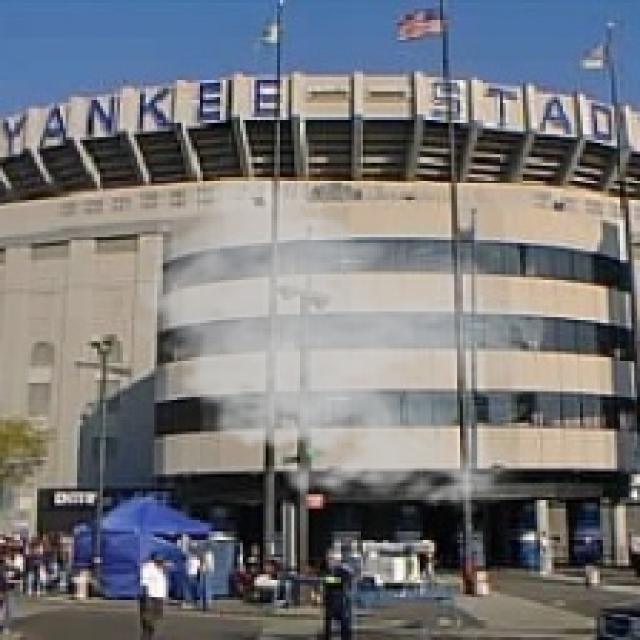Smoke: (122, 168, 548, 518)
